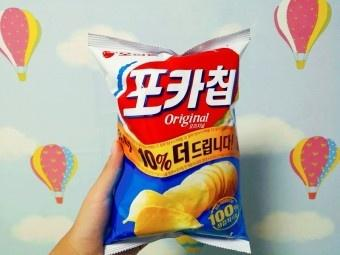snack: (87, 27, 252, 255)
